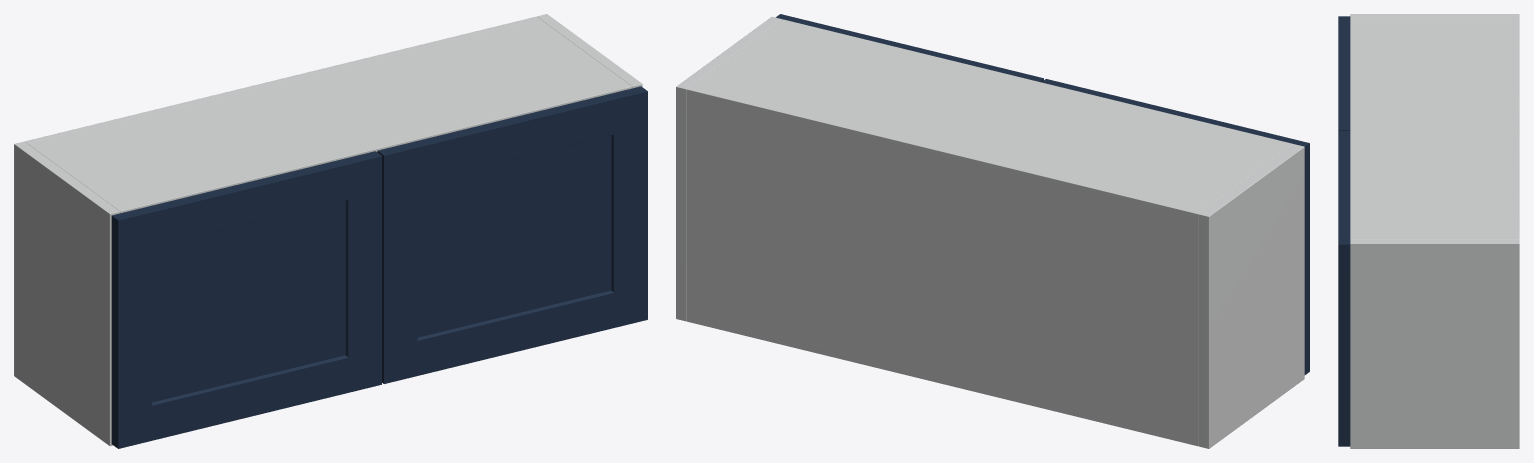
Rendered from oppein-ply-bss-w3615.glb.
3 views of the same model, side by side, from view 1: azimuth 30°, elevation 25°; view 2: azimuth 150°, elevation 25°; view 3: azimuth 270°, elevation 25° (orthographic). The views are drawn at different scales.
Parts seen in each view (by area): view 1: Door, Door.001, Cabinet top, Cabinet side, Cabinet back, Cabinet side.001; view 2: Cabinet back, Cabinet top, Cabinet side, Cabinet bottom, Cabinet side.001, Door, Door.001; view 3: Cabinet top, Cabinet side.001, Door.001, Cabinet back, Door, Cabinet side.
Boxes of the visible parts, bbox=[...] form: Door: bbox=[111, 151, 381, 448]; Door.001: bbox=[377, 86, 647, 383]; Cabinet top: bbox=[25, 17, 632, 213]; Cabinet side: bbox=[14, 141, 120, 446]; Cabinet back: bbox=[25, 16, 539, 143]; Cabinet side.001: bbox=[537, 14, 642, 88]; Cabinet back: bbox=[686, 86, 1201, 445]; Cabinet top: bbox=[687, 19, 1293, 224]; Cabinet side: bbox=[1198, 144, 1304, 448]; Cabinet bottom: bbox=[686, 312, 1198, 446]; Cabinet side.001: bbox=[676, 16, 781, 321]; Door: bbox=[1041, 79, 1309, 374]; Door.001: bbox=[776, 14, 1043, 82]; Cabinet top: bbox=[1350, 18, 1519, 239]; Cabinet side.001: bbox=[1350, 239, 1519, 448]; Door.001: bbox=[1338, 131, 1350, 446]; Cabinet back: bbox=[1513, 18, 1519, 238]; Door: bbox=[1338, 16, 1350, 130]; Cabinet side: bbox=[1350, 14, 1519, 18].
Size of the model in its own units: 0.9144 by 0.381 by 0.3048.
